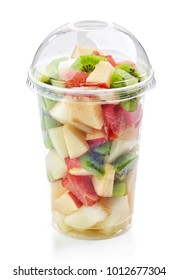plastic_glass: (18, 15, 161, 245)
